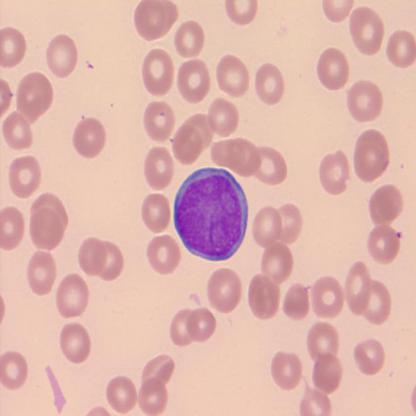Blast: (172, 163, 252, 264)
